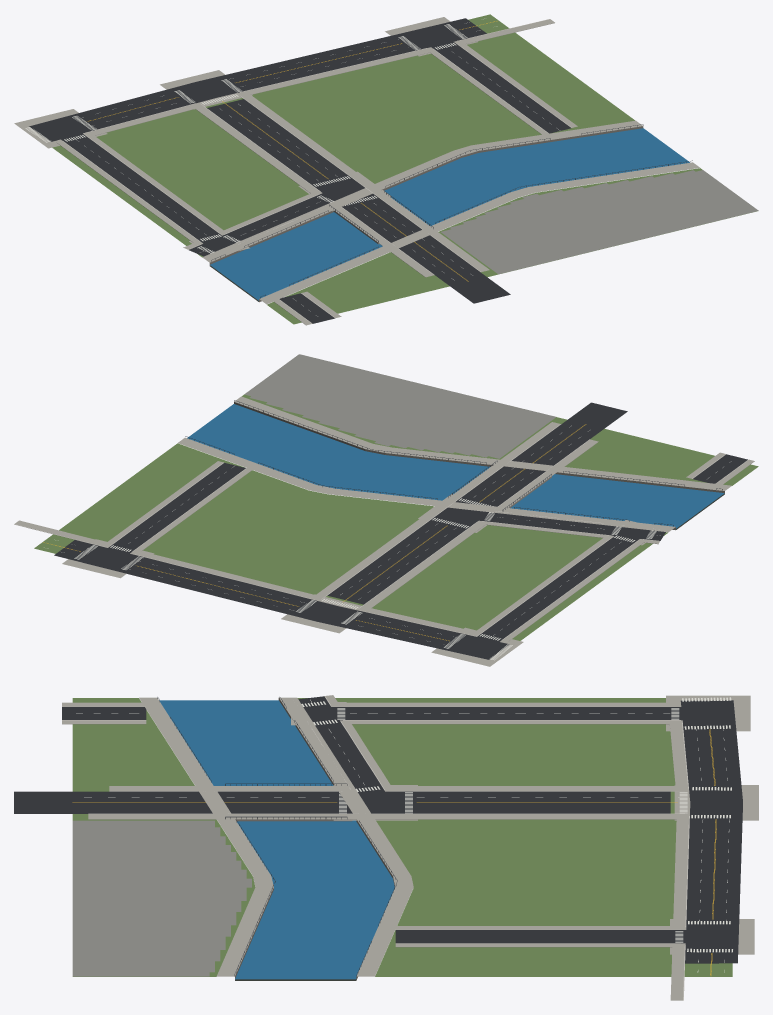
Rendered from Ground_5_2.fbx.
3 renders of one model, top to bottom at view 1: azimuth 30°, elevation 25°; view 2: azimuth 150°, elevation 25°; view 3: azimuth 270°, elevation 25°, orthographic. The views are drawn at different scales.
Visible parts, largest first — view 1: Ground_5_2; view 2: Ground_5_2; view 3: Ground_5_2.
Boxes of the visible parts, x1,y1,x2,y2 form: Ground_5_2: (14,14,758,325); Ground_5_2: (14,354,758,666); Ground_5_2: (14,695,758,1000).
Size of the model in its own units: 274 by 2.7 by 282.
